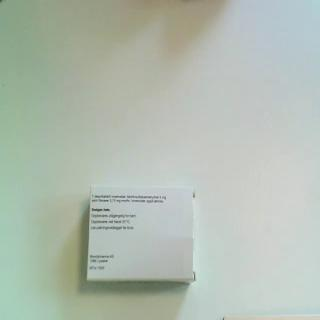dolcontin5mg: (86, 184, 197, 286)
